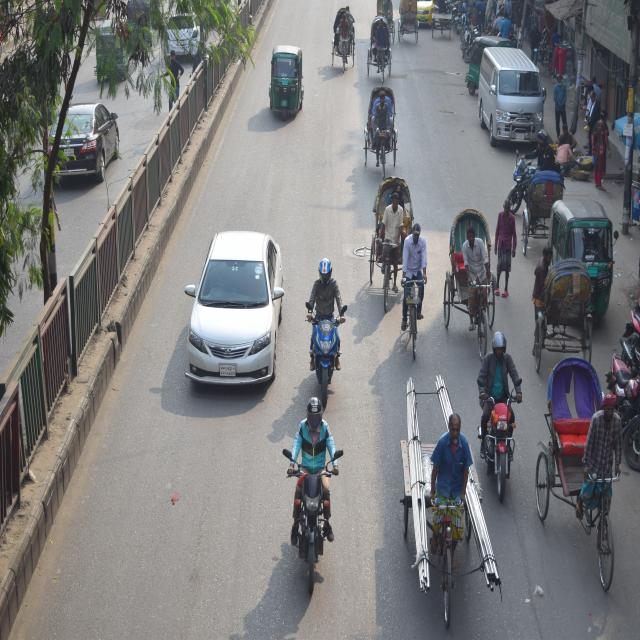car: (188, 223, 287, 407), (43, 106, 124, 181), (163, 15, 206, 69)
microbus: (479, 47, 546, 151)
motorbike: (283, 390, 353, 592), (462, 323, 541, 500), (304, 253, 358, 398)
